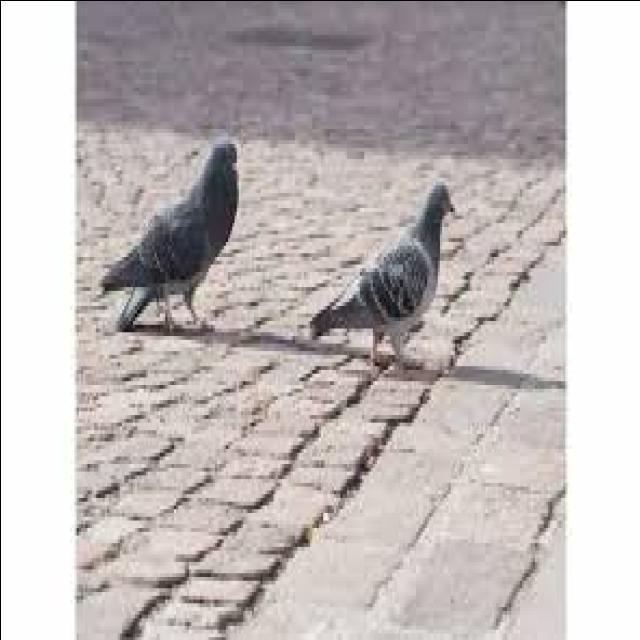pigeon: (297, 164, 463, 390)
